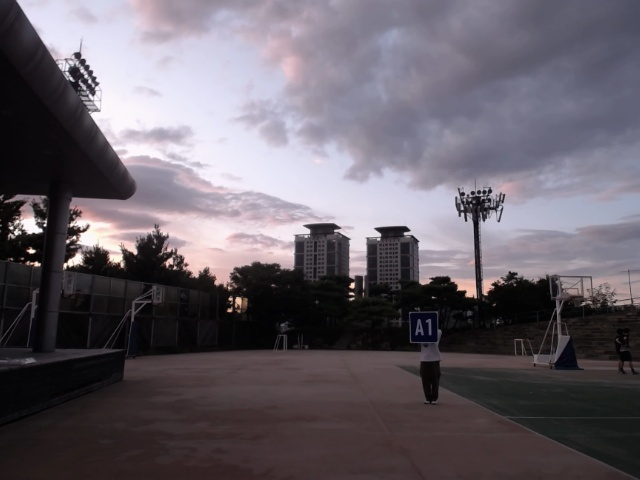delivery_a1: (409, 312, 438, 343)
